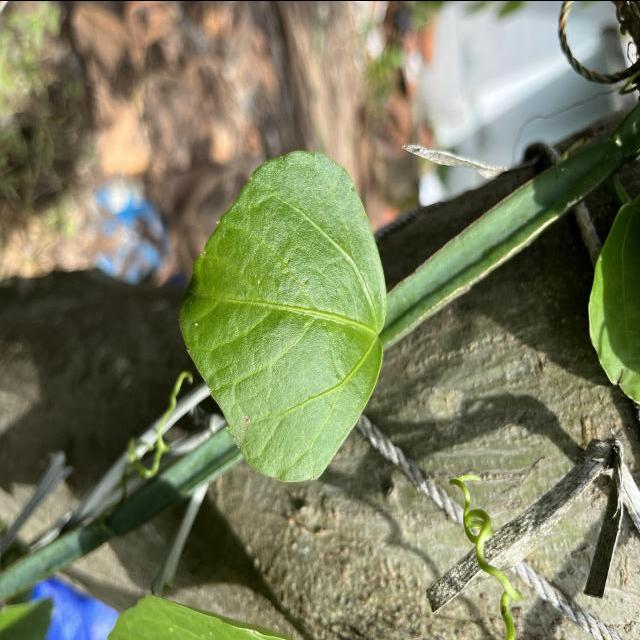Cissus quadrangularis: (176, 148, 390, 484)
